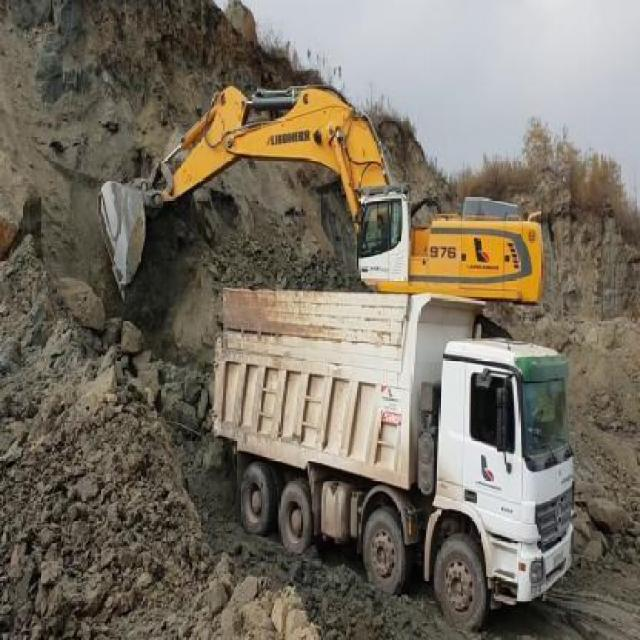Dump Truck: (212, 282, 576, 630)
Excavator: (94, 84, 546, 338)
